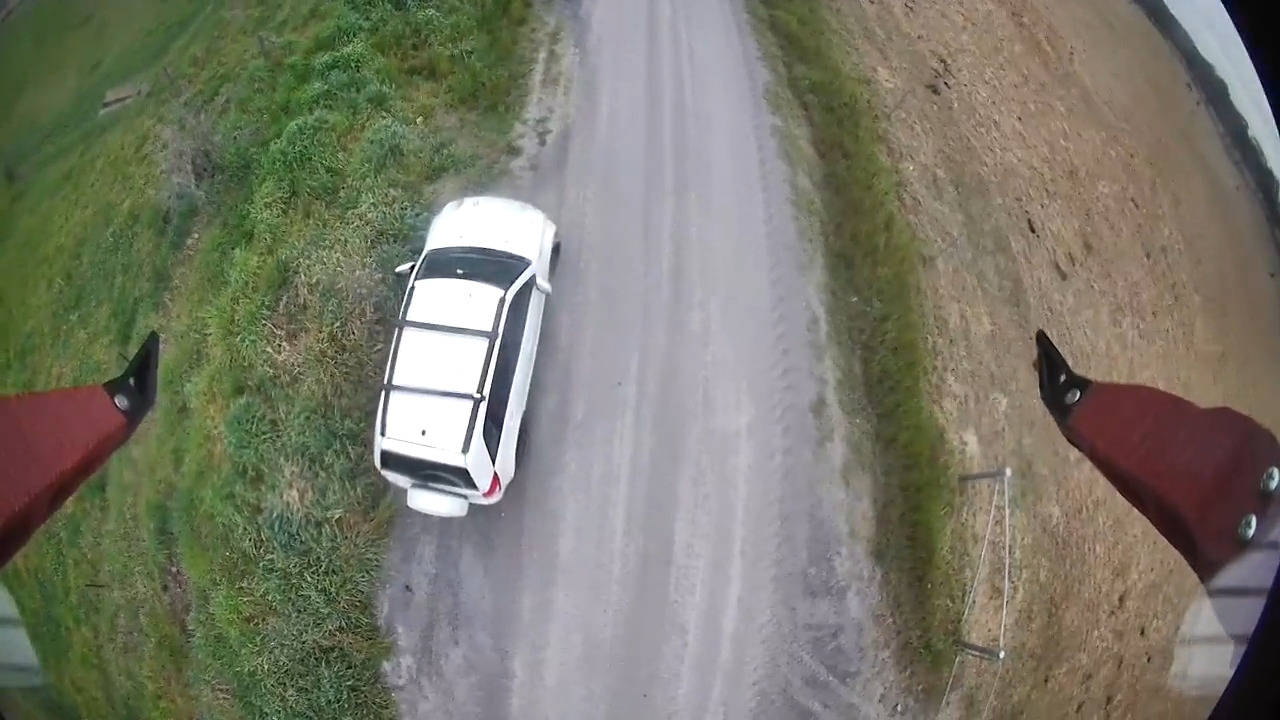Car: (374, 197, 561, 517)
